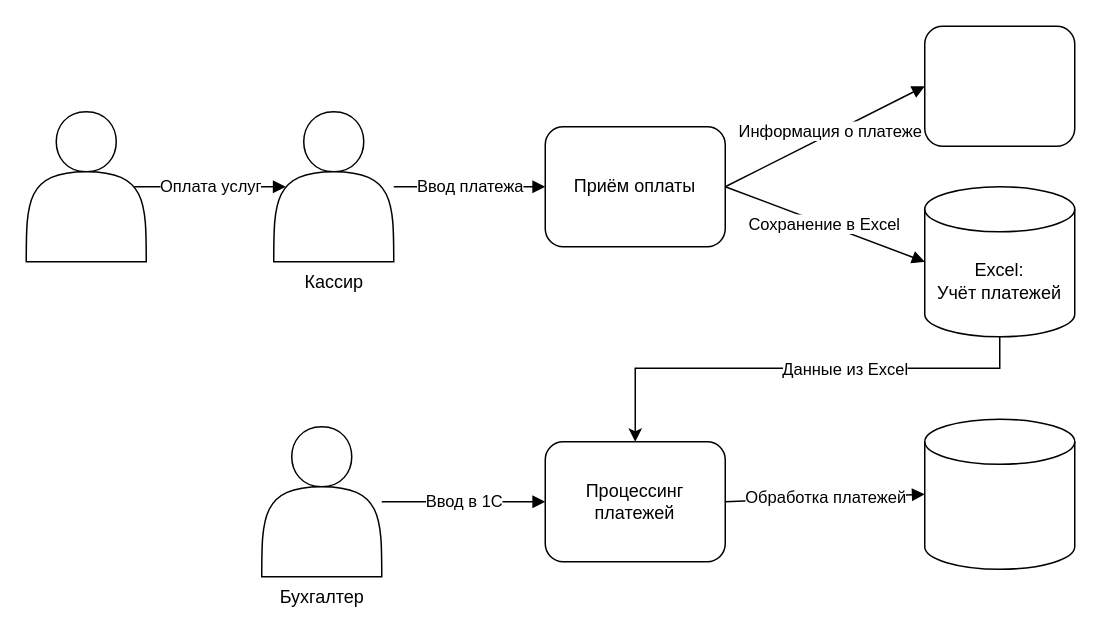
Image size: 1101x635. Some labels were removed from this diagram. The shapes that lost their labels are listed below. From the top down, each one's centre as x and y in pixels, then its label:
At (x=999, y=85): "ККМ".
At (x=85, y=186): "Пациент".
At (x=999, y=493): "1С: Бухгалтерия".
